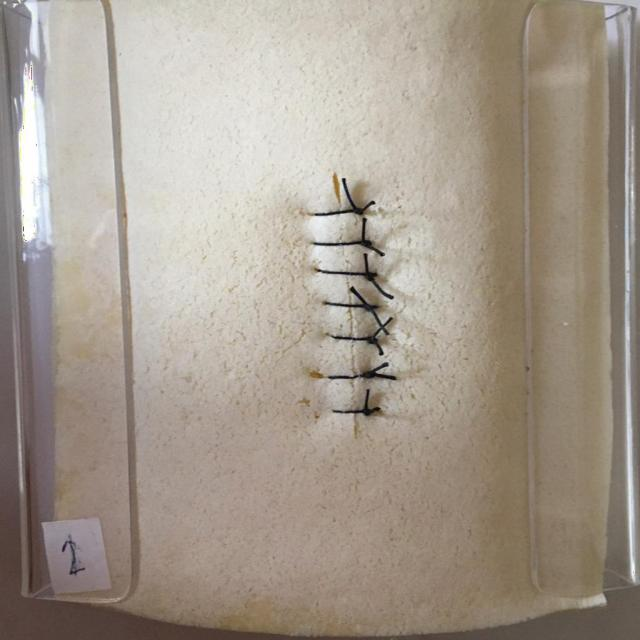knot: (365, 272, 377, 281), (364, 304, 378, 311), (362, 408, 373, 416), (362, 372, 376, 378), (368, 337, 377, 344), (353, 208, 363, 214), (362, 241, 372, 246)
leftover: (363, 271, 396, 301), (363, 303, 391, 337), (365, 313, 395, 343), (339, 174, 358, 213), (346, 284, 373, 310), (361, 359, 391, 378), (359, 239, 385, 258), (367, 336, 385, 358), (366, 370, 399, 382), (360, 385, 371, 415), (358, 214, 368, 246), (360, 249, 371, 278), (360, 405, 384, 415)
stitch: (312, 266, 380, 278), (321, 299, 381, 311), (323, 369, 379, 381), (310, 205, 365, 217), (326, 332, 381, 343), (309, 239, 374, 248), (328, 407, 377, 415)
wound: (329, 168, 360, 441)
